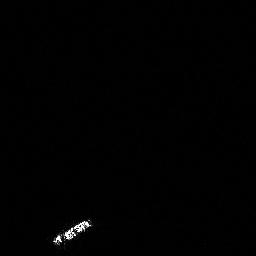ship: (51, 217, 94, 249)
